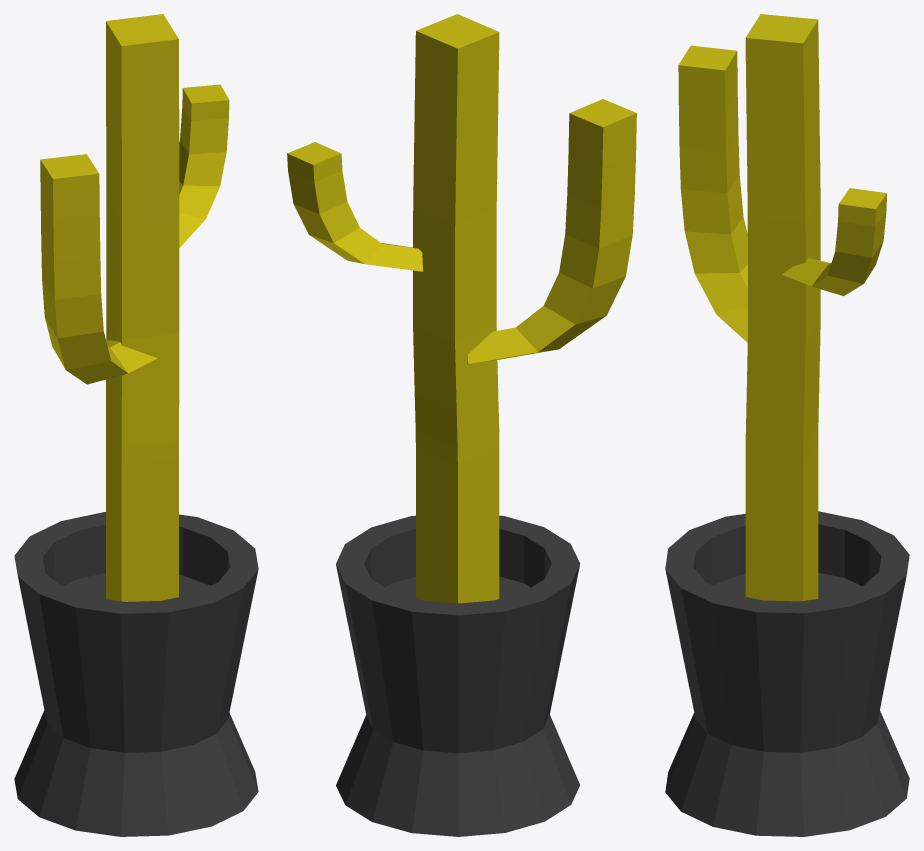
File: cactus_grande_01_000016.obj
3 renders of one model, left to right at view 1: azimuth 30°, elevation 25°; view 2: azimuth 150°, elevation 25°; view 3: azimuth 270°, elevation 25°, orthographic.
Visible parts, largest first — view 1: Cylinder, NurbsPath.001, NurbsPath.002, NurbsPath.003; view 2: Cylinder, NurbsPath.001, NurbsPath.002, NurbsPath.003; view 3: Cylinder, NurbsPath.001, NurbsPath.002, NurbsPath.003.
Boxes of the visible parts, x1,y1,x2,y2 form: Cylinder: [14, 512, 258, 836]; NurbsPath.001: [106, 14, 179, 601]; NurbsPath.002: [40, 154, 157, 384]; NurbsPath.003: [179, 84, 229, 247]; Cylinder: [336, 515, 580, 836]; NurbsPath.001: [413, 14, 499, 603]; NurbsPath.002: [467, 99, 636, 364]; NurbsPath.003: [287, 142, 422, 271]; Cylinder: [665, 511, 909, 836]; NurbsPath.001: [745, 14, 820, 601]; NurbsPath.002: [678, 45, 747, 342]; NurbsPath.003: [782, 188, 886, 296].
Size of the model in its own units: 1.58 by 4.41 by 1.29.
